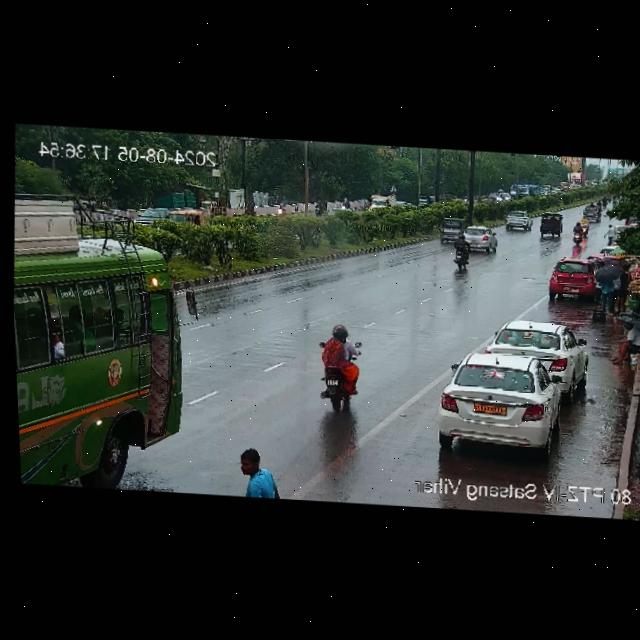bus: (9, 210, 192, 483)
car: (433, 351, 566, 453), (489, 317, 588, 388), (547, 258, 601, 301), (455, 228, 499, 252), (436, 215, 466, 240), (499, 209, 531, 231), (538, 211, 563, 236), (582, 203, 603, 222)
motorcycle: (307, 318, 367, 413), (614, 262, 634, 311), (449, 235, 475, 269), (597, 273, 616, 314), (313, 196, 326, 217), (573, 222, 584, 244), (580, 216, 589, 234), (341, 198, 350, 208)
person: (229, 450, 287, 499), (606, 319, 640, 369), (604, 223, 614, 241)
truck: (366, 192, 397, 211)
